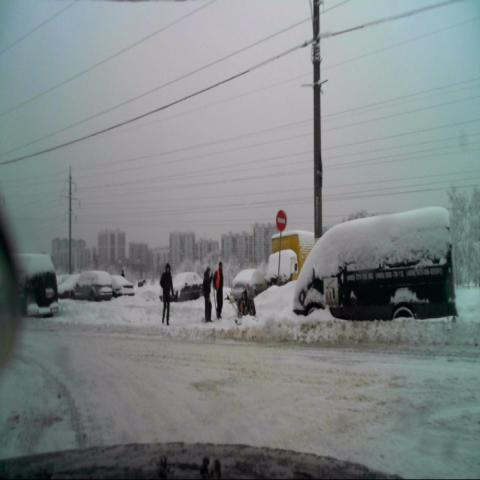3_1: (275, 206, 287, 231)
